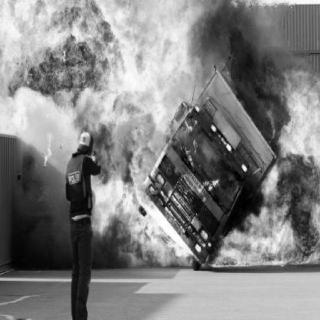Fire: (0, 0, 215, 124), (253, 66, 320, 263), (91, 125, 186, 262), (213, 214, 261, 266)
Smoke: (228, 27, 282, 123)
